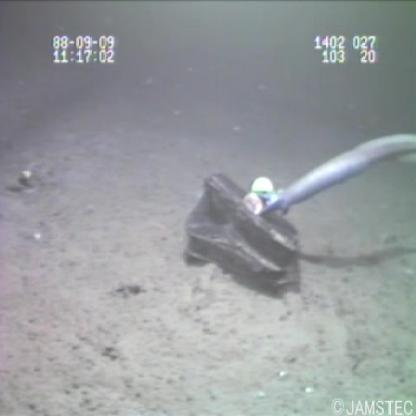Bio: (241, 128, 416, 223)
Rác: (179, 166, 305, 303)
